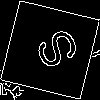S: (25, 25, 82, 78)
